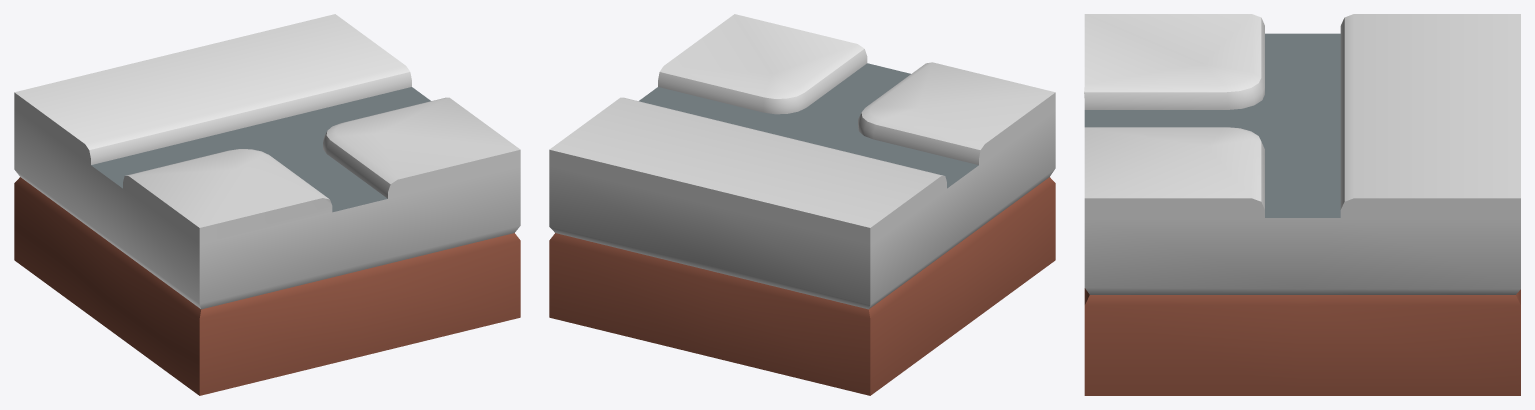
The model's file is square_snow_roadD_detail.fbx.
3 views of the same model, side by side, from view 1: azimuth 30°, elevation 25°; view 2: azimuth 150°, elevation 25°; view 3: azimuth 270°, elevation 25° (orthographic). The views are drawn at different scales.
Visible parts, largest first — view 1: square_snow_roadD_detail; view 2: square_snow_roadD_detail; view 3: square_snow_roadD_detail.
Boxes of the visible parts, x1,y1,x2,y2 form: square_snow_roadD_detail: [14, 14, 520, 395]; square_snow_roadD_detail: [549, 14, 1055, 395]; square_snow_roadD_detail: [1084, 14, 1520, 395].
Size of the model in its own units: 2 by 1 by 2.
